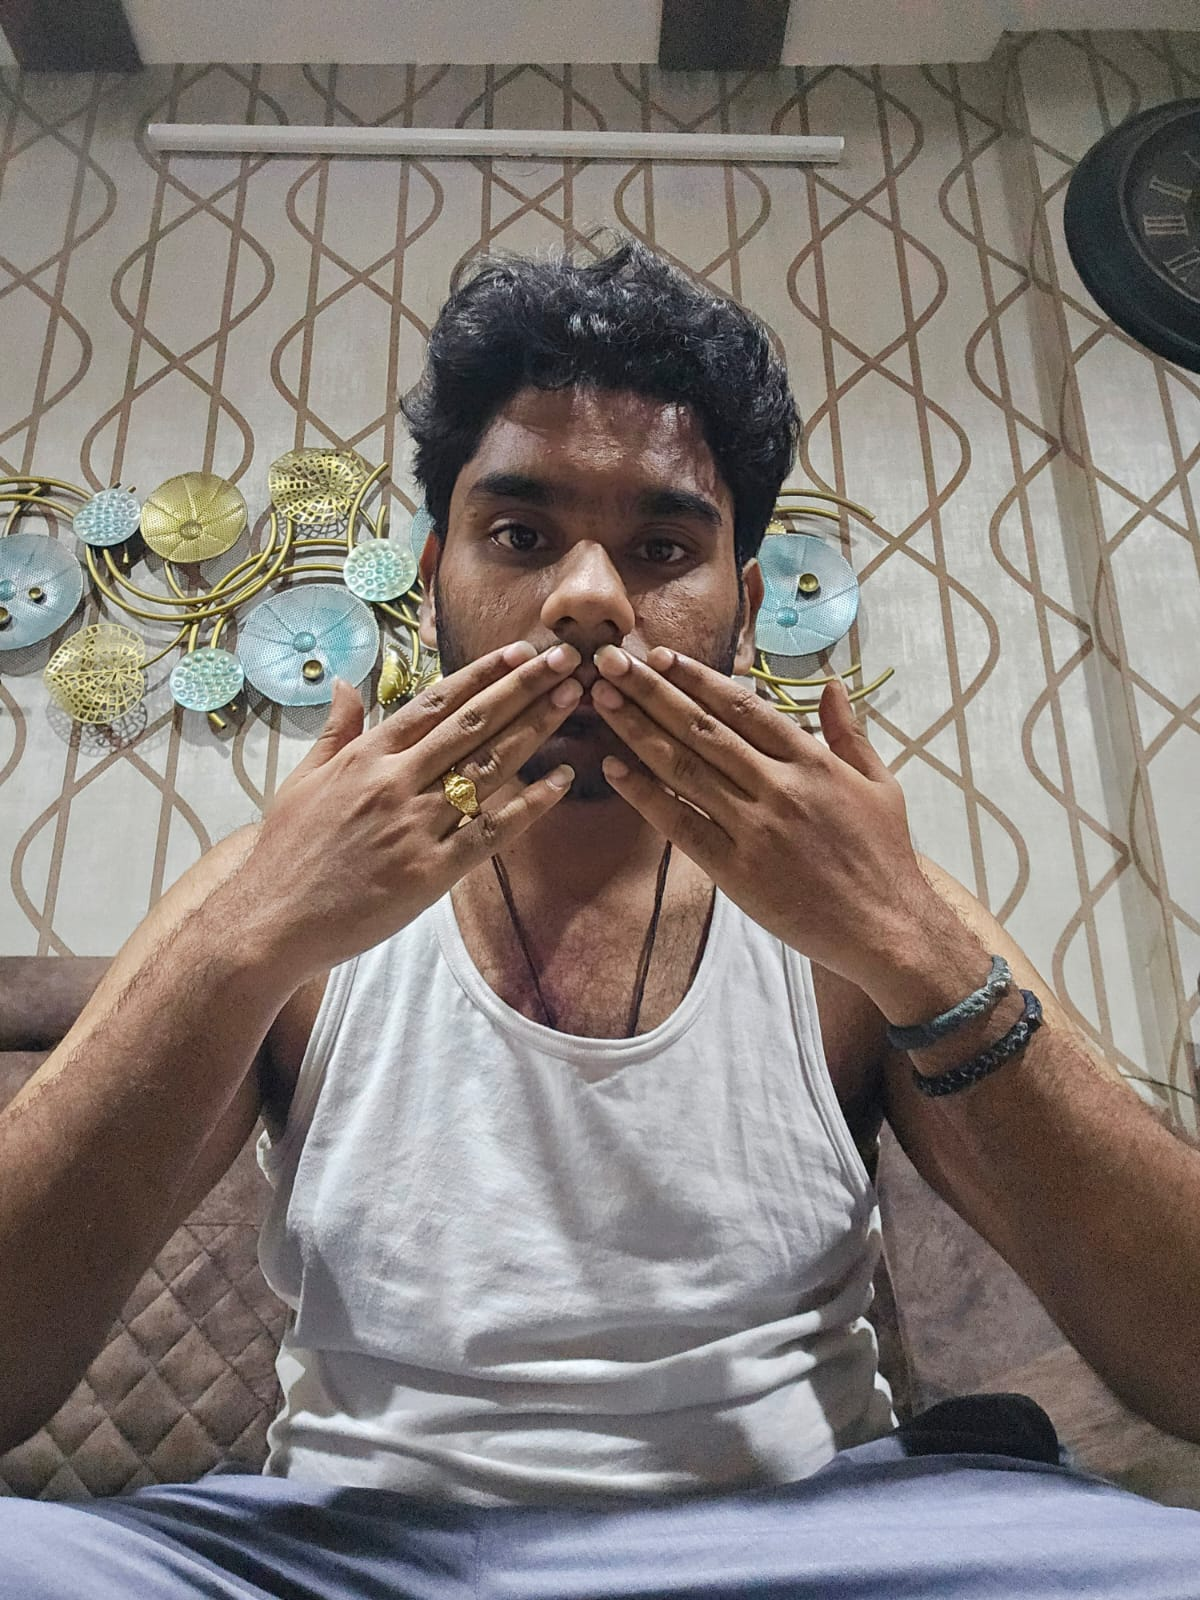thank you: (205, 641, 940, 970)
